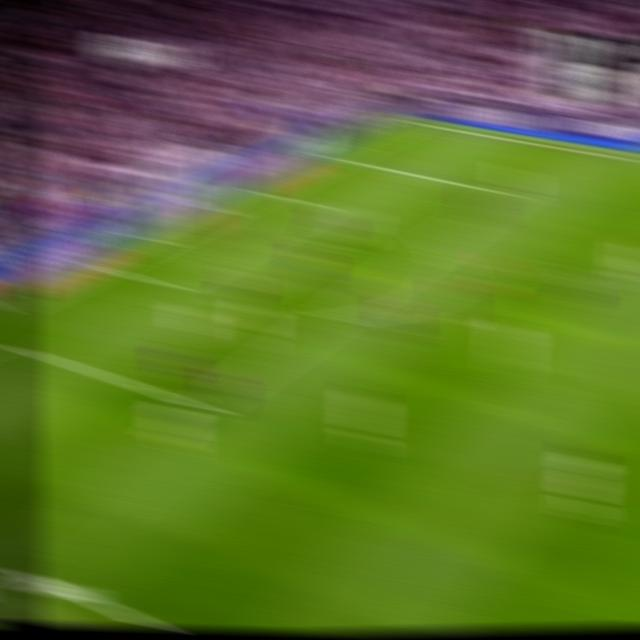bigarea_bottom_inner: (187, 395, 219, 420)
bigarea_top_inner: (497, 186, 523, 202)
bigarea_top_outter: (320, 147, 349, 164)
bottom_arc_area_intersection: (317, 303, 350, 329)
corner: (391, 112, 421, 128)
smallarea_top_inner: (302, 197, 331, 214)
top_arc_area_intersection: (424, 233, 453, 253)
